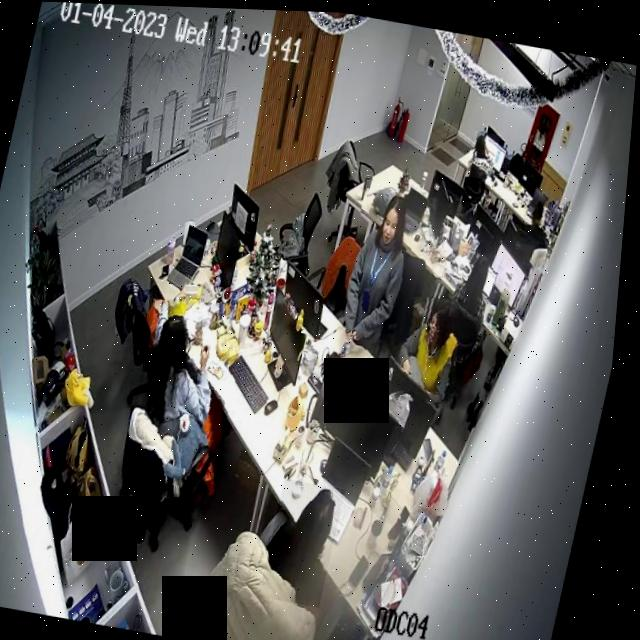person: (126, 291, 257, 504), (336, 184, 426, 359), (268, 476, 354, 605), (393, 288, 477, 404), (453, 246, 505, 320), (522, 194, 560, 244), (468, 127, 503, 177)
